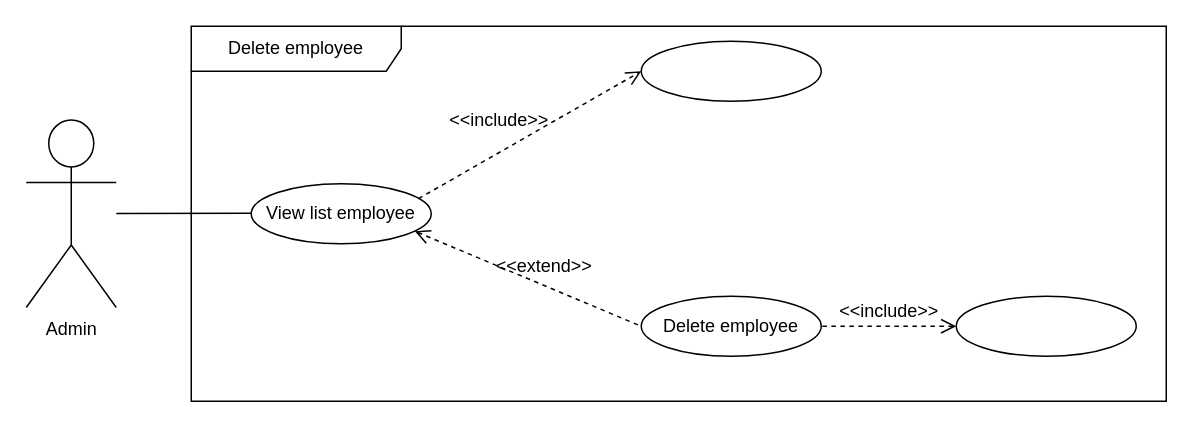
This 1193x428 diagram has some shape labels left out. The shapes that lost their labels are listed below. From the top down, each one's centre as x and y in pixels, then its label:
the point at 730,70: Login
the point at 1045,325: Confirm delete
